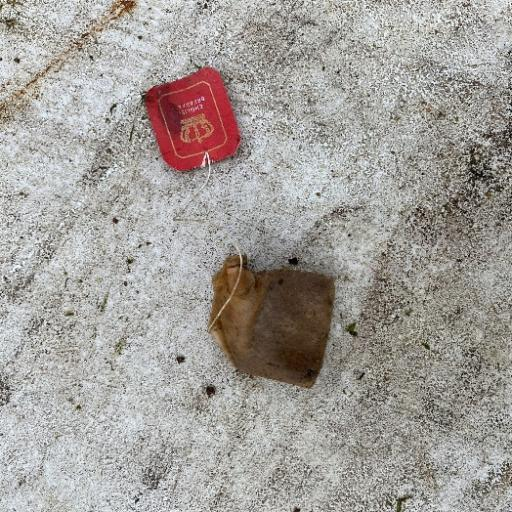Waste: (206, 250, 336, 389), (140, 64, 242, 173)
